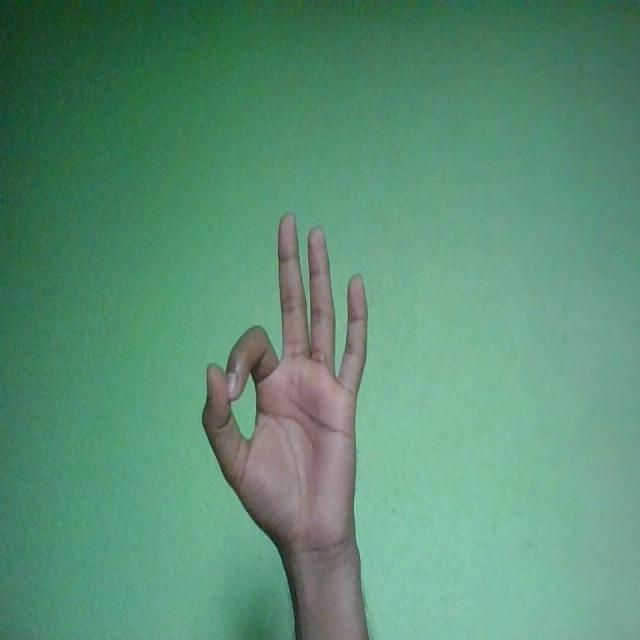Rock On: (203, 211, 369, 564)
